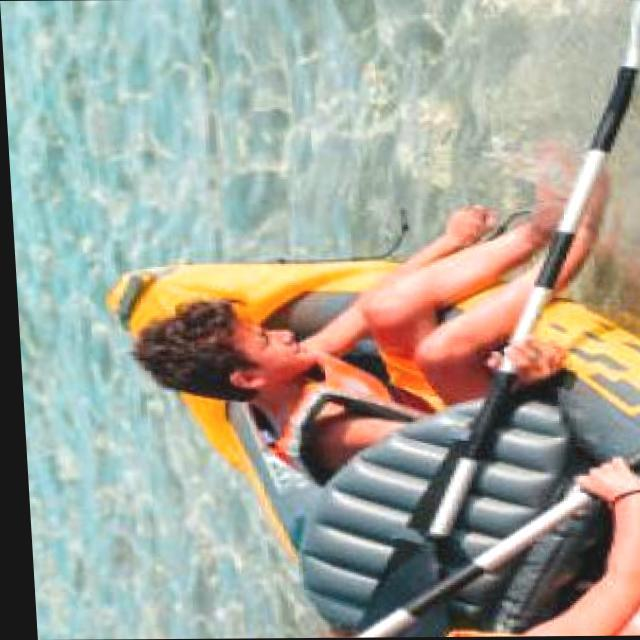kayak: (182, 400, 459, 629), (444, 302, 640, 564), (106, 261, 383, 335)
